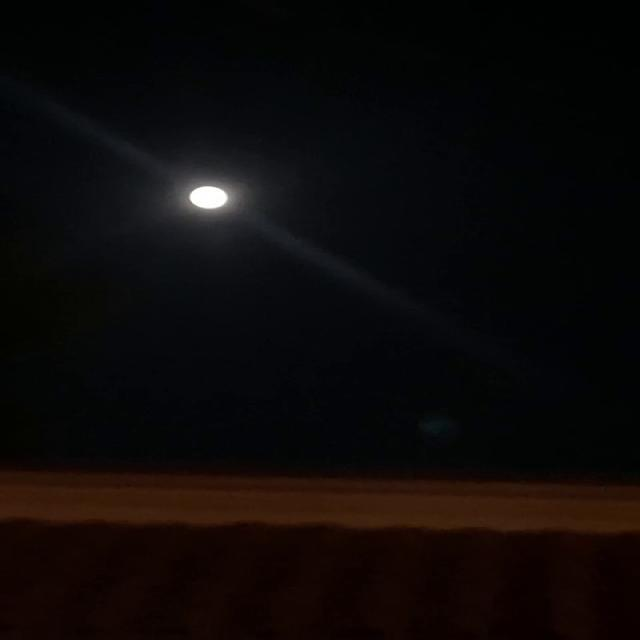moon: (182, 182, 236, 214)
